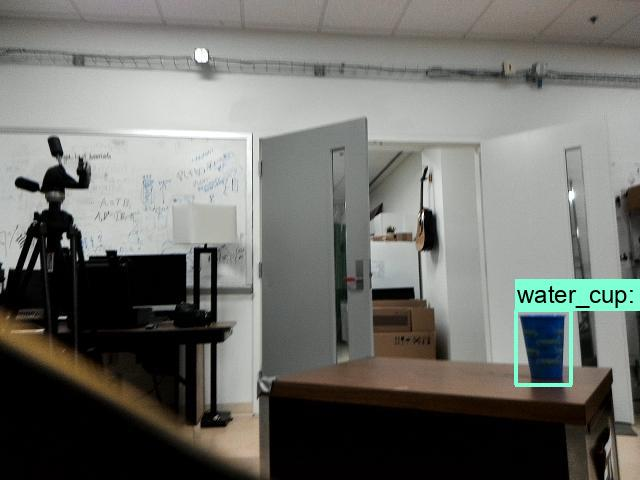water_cup: (516, 310, 572, 387)
